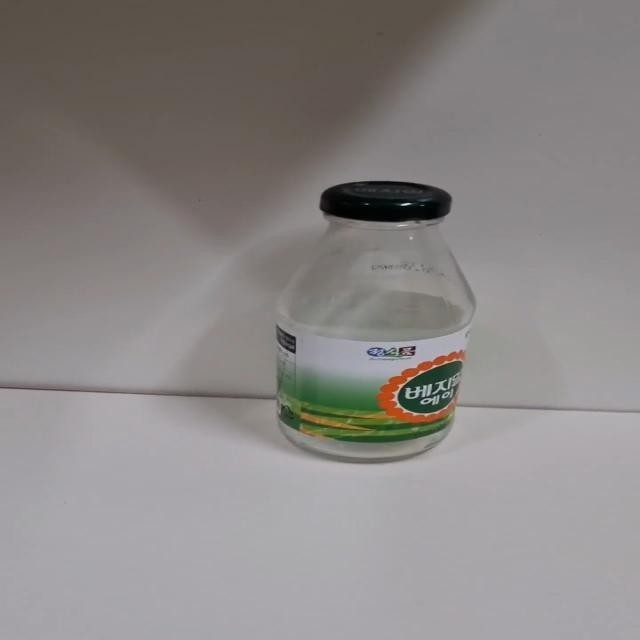Glass: (268, 170, 488, 463)
